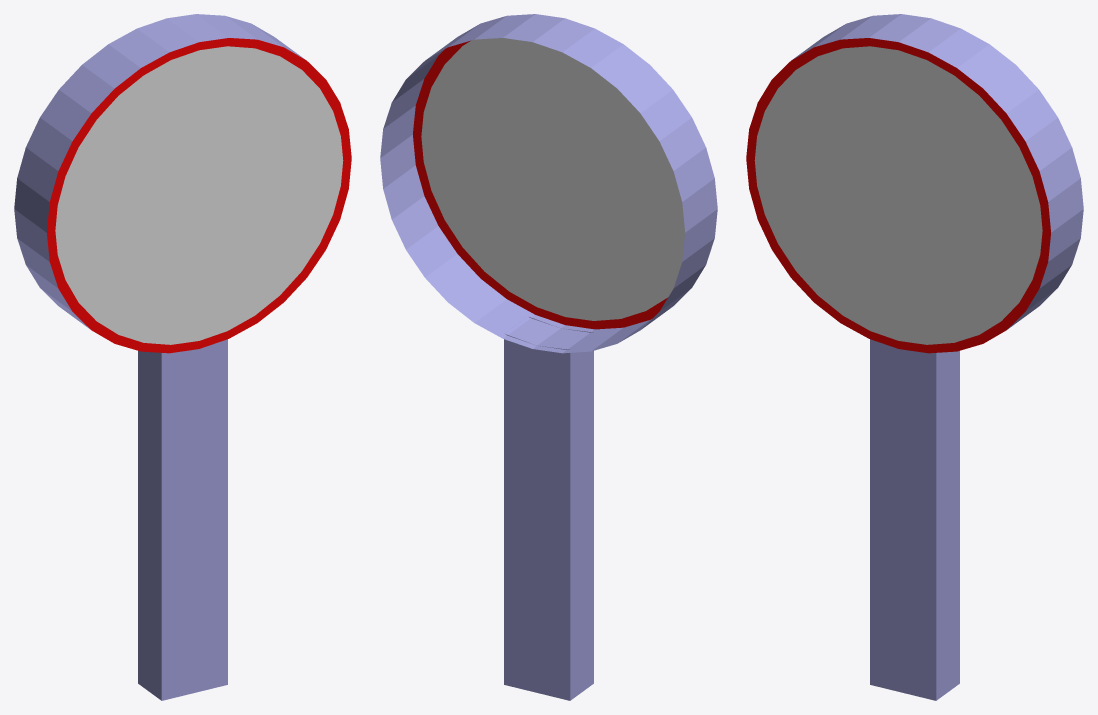
File: Target.fbx
The picture shows the model from 3 angles, left to right: view 1: azimuth 30°, elevation 25°; view 2: azimuth 150°, elevation 25°; view 3: azimuth 330°, elevation 25°; orthographic projection.
Visible parts, largest first — view 1: Target; view 2: Target; view 3: Target.
Boxes of the visible parts, x1=… form: Target: x1=14, y1=14, x2=351, y2=700; Target: x1=380, y1=14, x2=717, y2=700; Target: x1=746, y1=14, x2=1083, y2=700.
Size of the model in its own units: 149 by 305 by 27.59.
